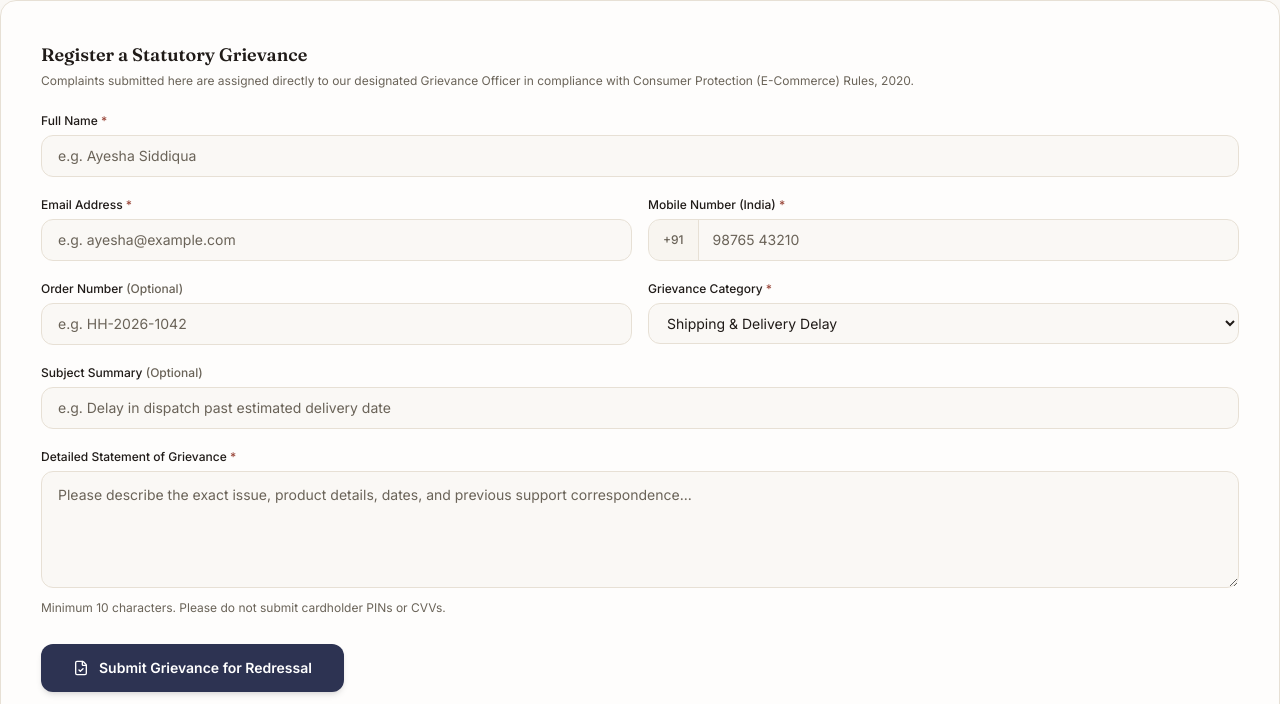
Test: GrievanceForm Component › displays client-side validation errors when required fields are empty
Click the button "Submit Grievance for Redressal" at (192, 668), box [41,644,344,692]
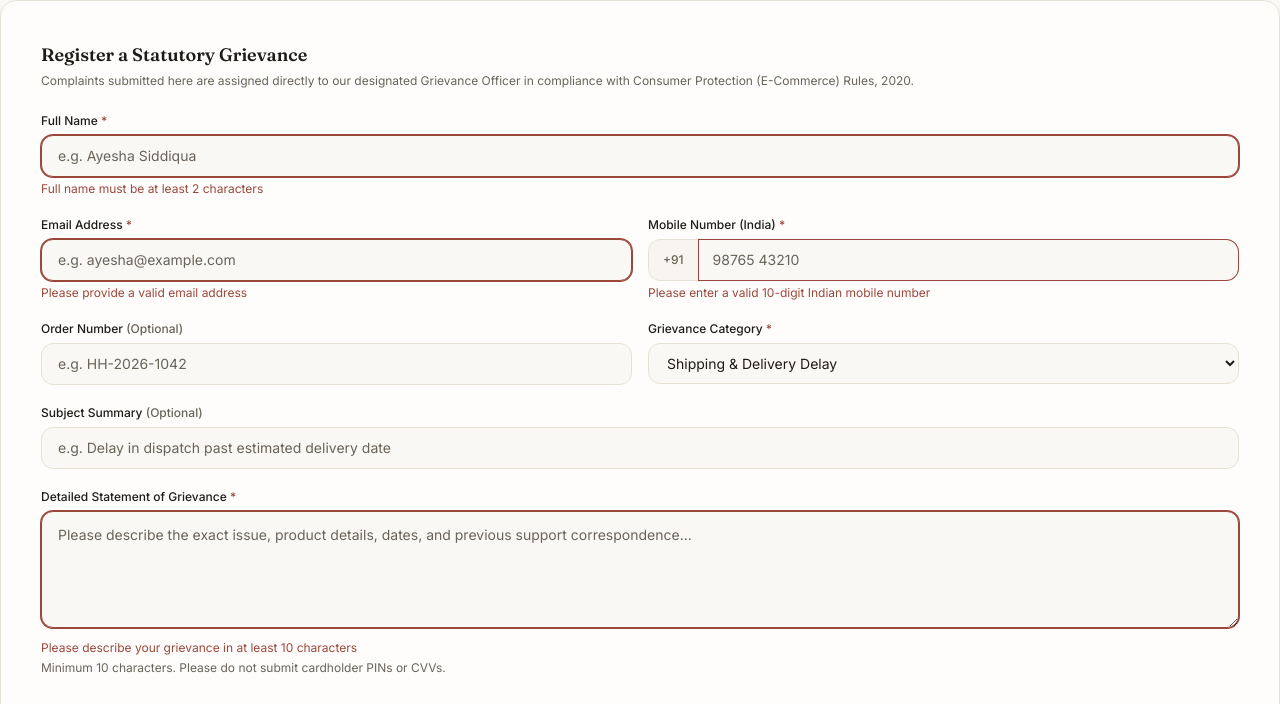
Expected: the text "Full name must be at least 2 characters" is shown, [41,181,263,196]
Expected: the text "Please provide a valid email address" is shown, [41,285,247,300]
Expected: the text "Please describe your grievance in at least 10 characters" is shown, [41,640,357,655]
